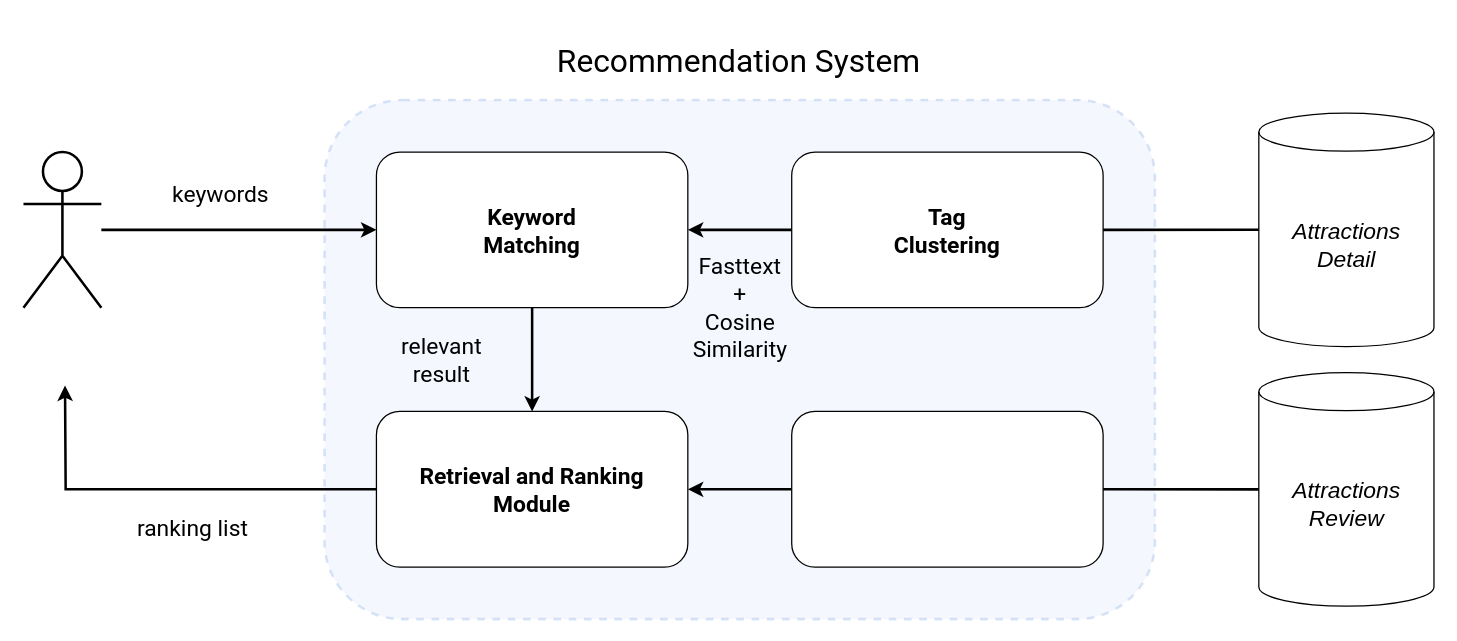
The diagram is 1457 pixels wide and 641 high, and some of its shapes have lost their labels. Here are the shapes that lost their labels. From the top down, the centre of each, then its label:
[62,229]: User
[946,488]: Text Sentiment Module
